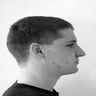ear: (26, 39, 50, 62)
